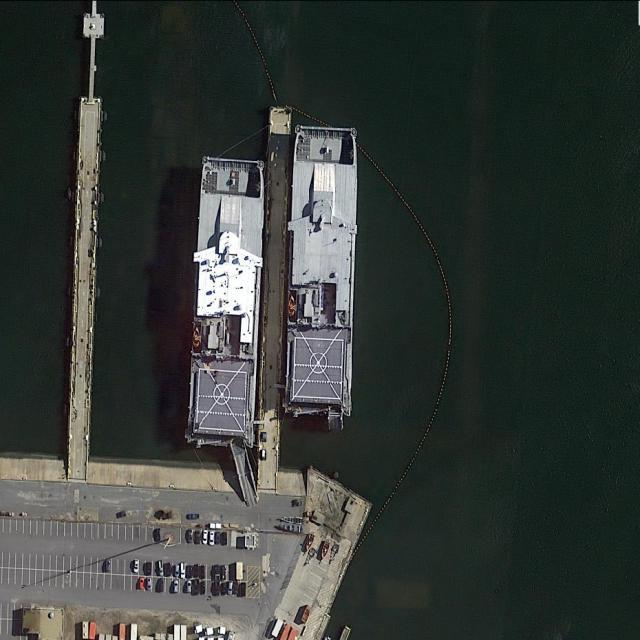Auxiliary Ships: (180, 154, 273, 450), (279, 123, 362, 416)
Dock: (255, 107, 291, 468), (68, 95, 103, 458)
